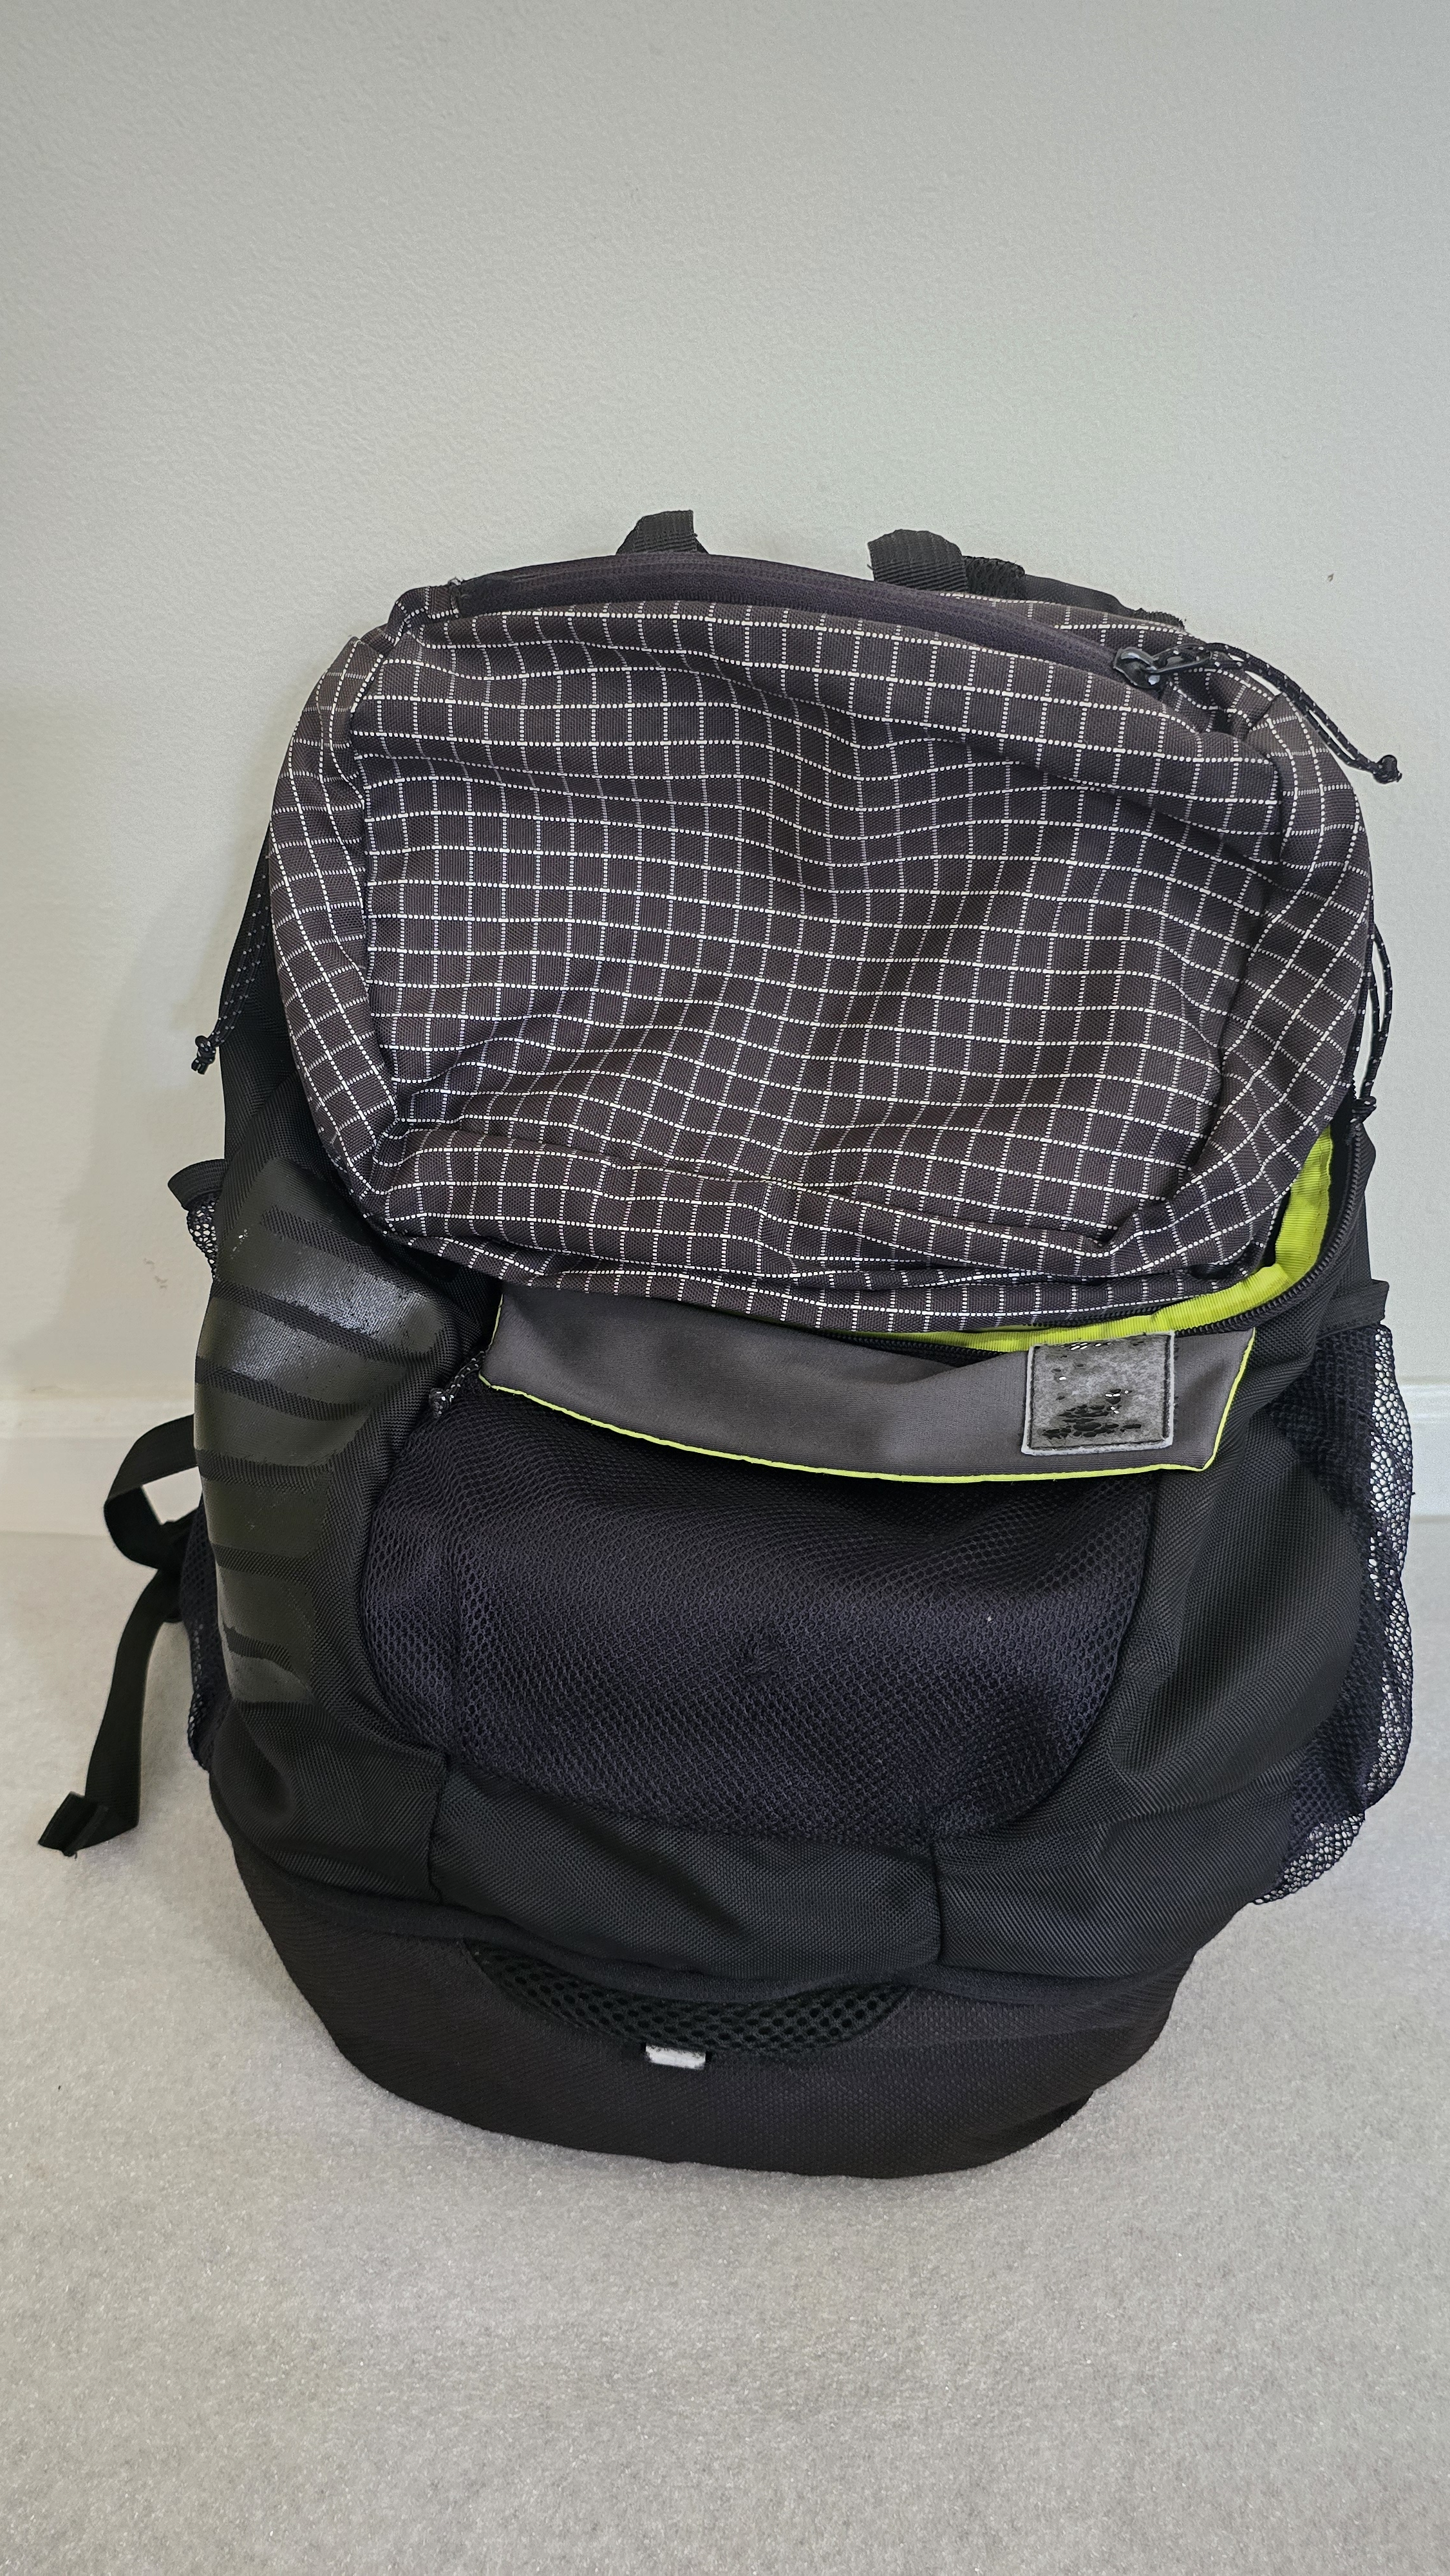bag: (235, 502, 1448, 2146)
